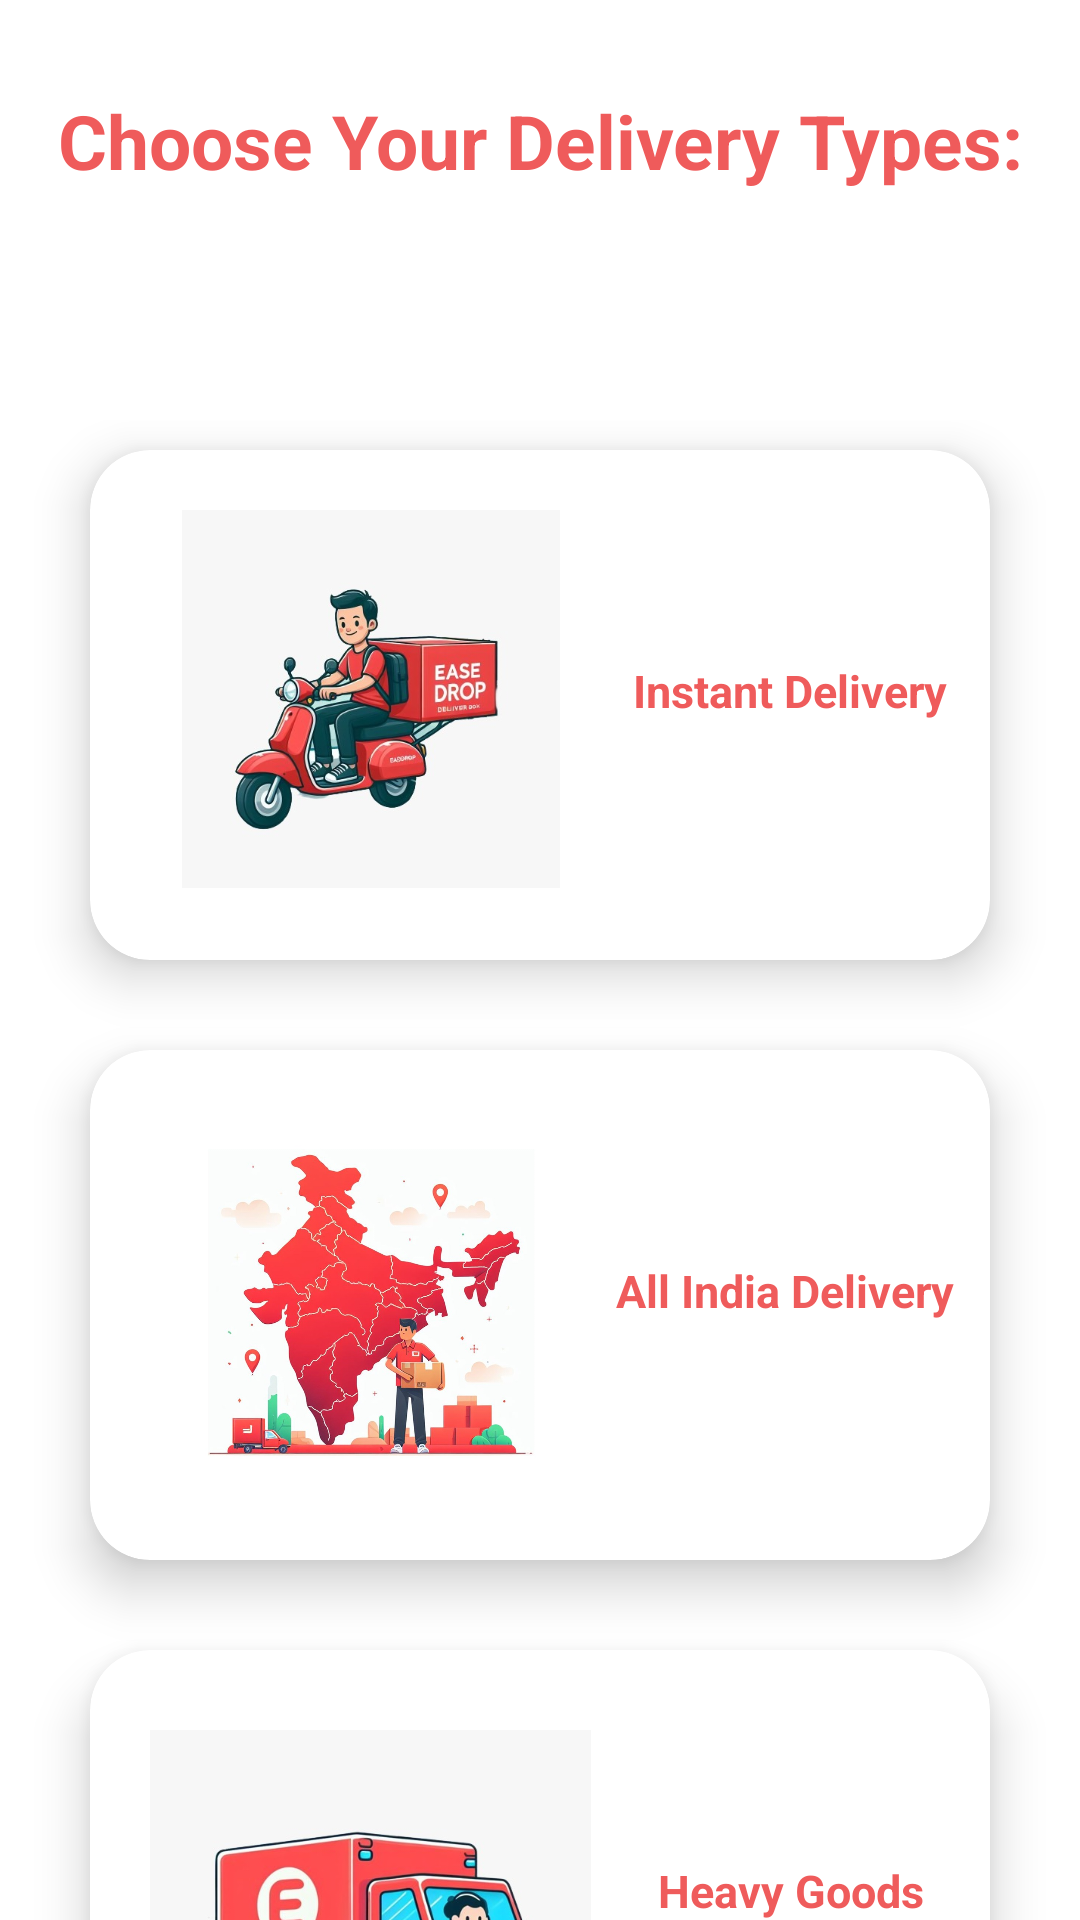

Screen size 1080×1920. Icon name, then its box in pixels as box(x1, y1, x2, y2):
bike: box(235, 589, 498, 829)
